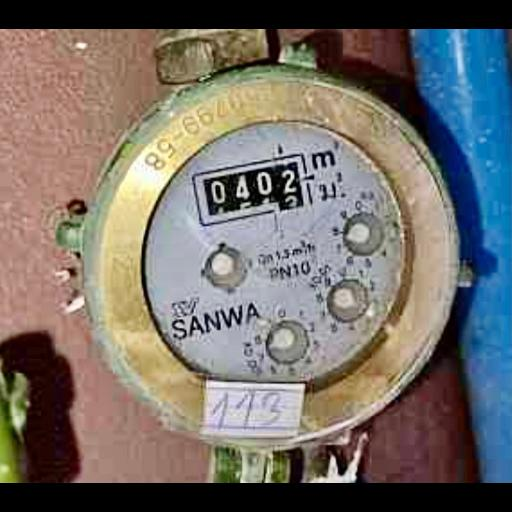0: (203, 174, 235, 216), (252, 167, 280, 206)
2: (273, 163, 305, 212)
4: (229, 171, 259, 212)
border_water_meter_number: (190, 153, 314, 228)
